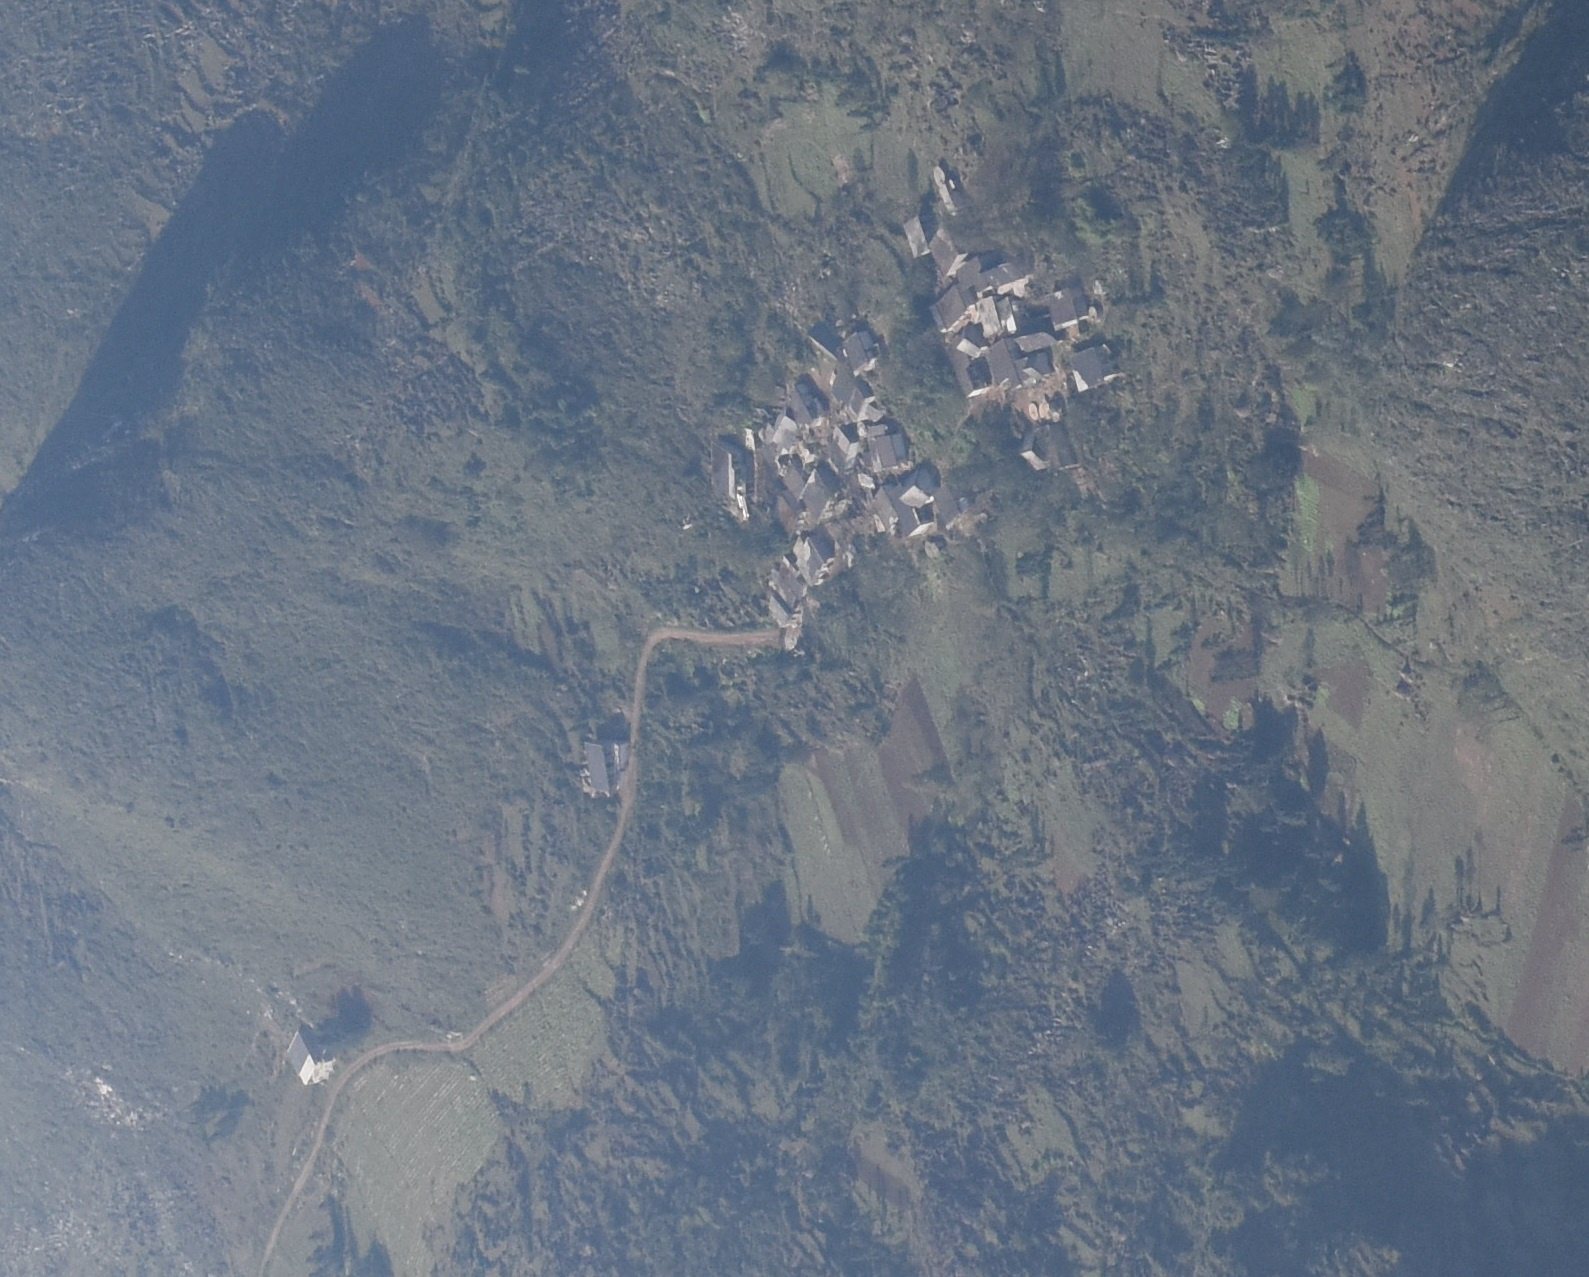building: (934, 262, 1029, 334), (949, 337, 1055, 395), (768, 539, 824, 625), (875, 476, 956, 532), (774, 470, 834, 532), (711, 433, 750, 513), (581, 738, 626, 797), (284, 1032, 336, 1083), (1022, 425, 1080, 470), (929, 227, 972, 271), (832, 367, 873, 414), (1048, 281, 1091, 324), (930, 164, 966, 214), (1072, 347, 1114, 388), (867, 431, 907, 470), (826, 426, 860, 470), (903, 211, 935, 255), (791, 382, 822, 427), (808, 322, 841, 360), (845, 331, 879, 367), (763, 417, 797, 450)
